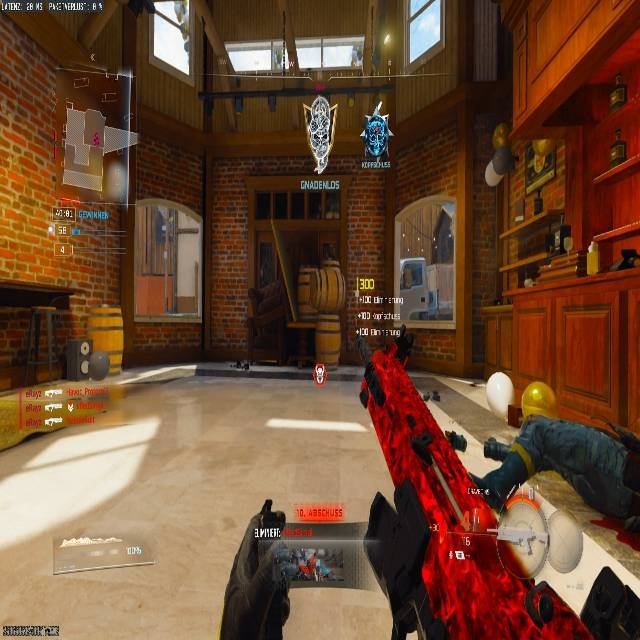player: (219, 495, 302, 639), (361, 107, 389, 166)
